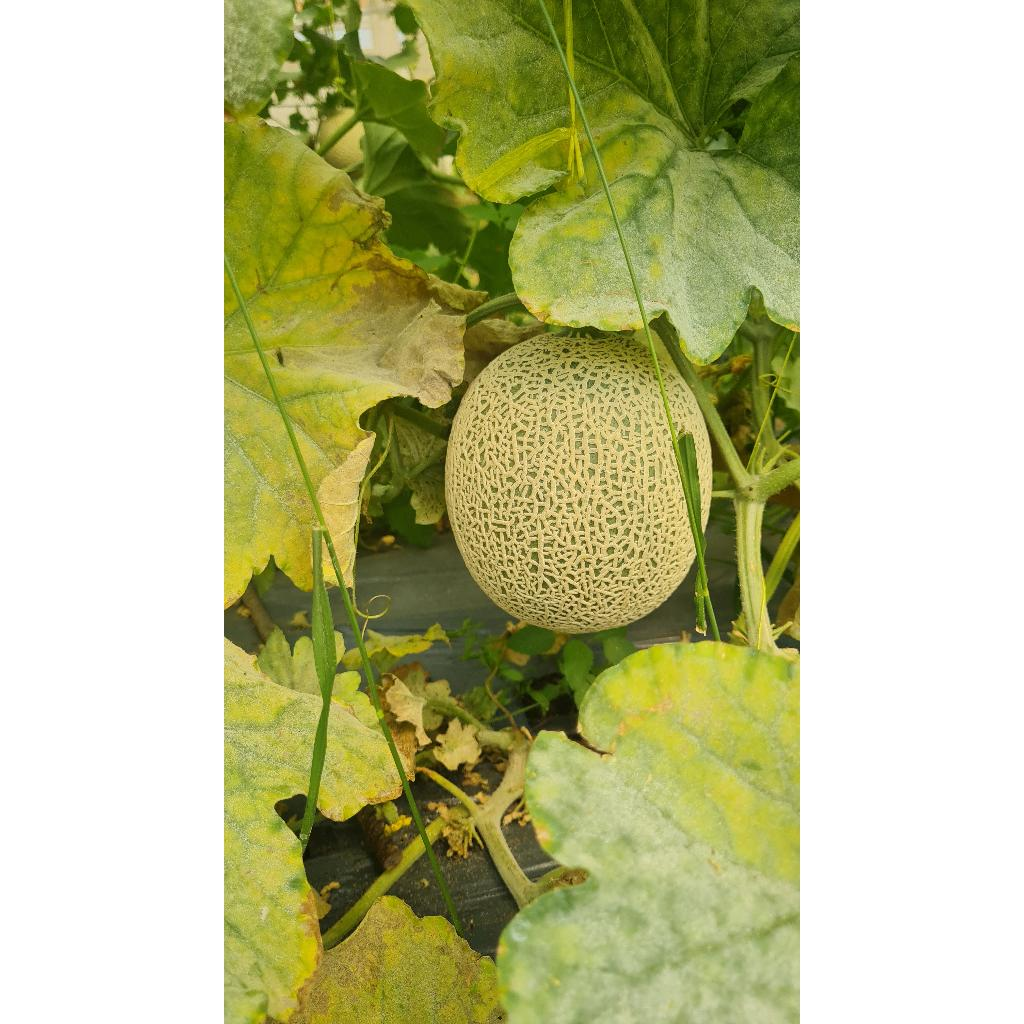melon: (446, 334, 694, 632)
